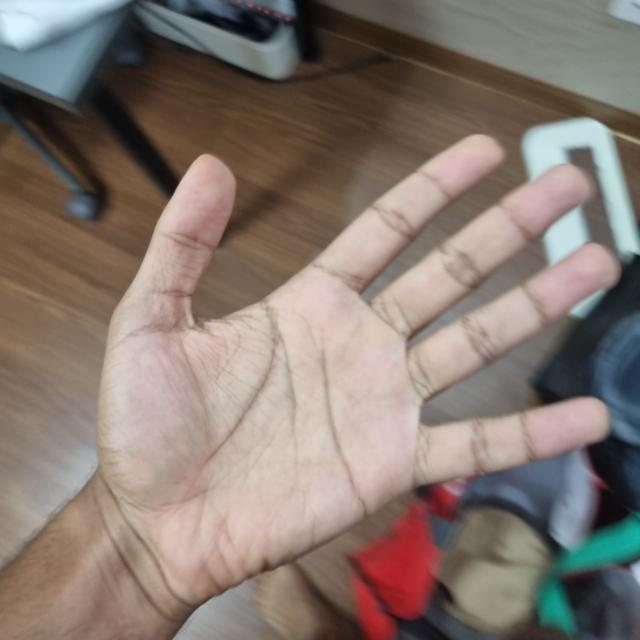Paper: (98, 141, 618, 637)
